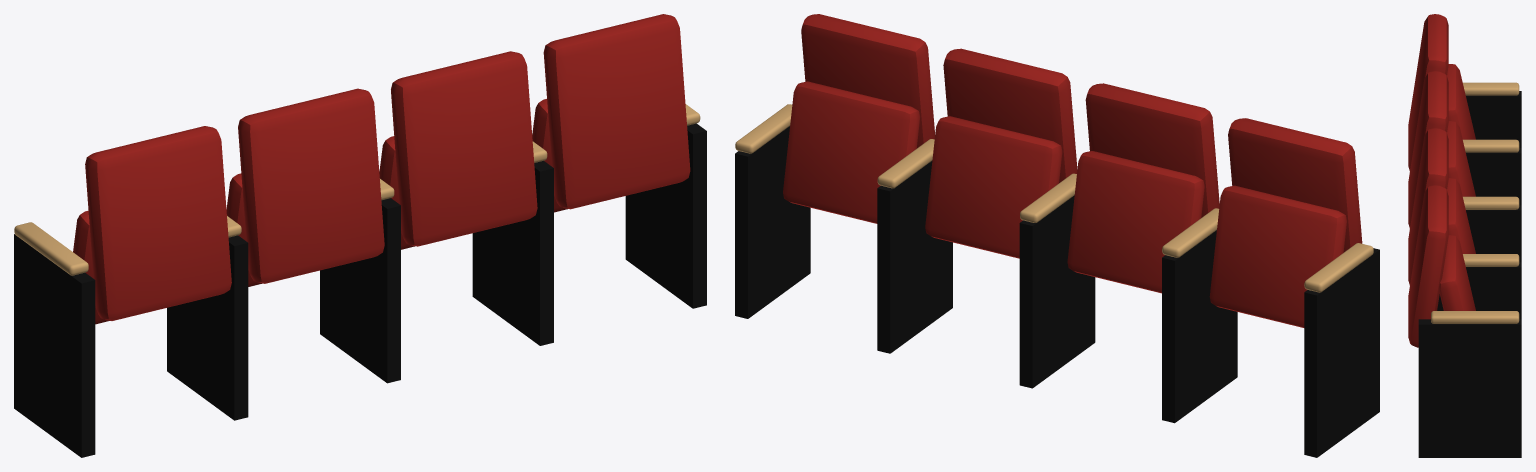
The model's file is venue.seat.row_4.glb.
The picture shows the model from 3 angles, left to right: view 1: azimuth 30°, elevation 25°; view 2: azimuth 150°, elevation 25°; view 3: azimuth 270°, elevation 25°; orthographic projection. The views are drawn at different scales.
Parts seen in each view (by area): view 1: main__fabric_red, main__plastic_black, main__glulam; view 2: main__fabric_red, main__plastic_black, main__glulam; view 3: main__plastic_black, main__fabric_red, main__glulam.
Boxes of the visible parts, x1,y1,x2,y2 form: main__fabric_red: [73, 14, 690, 324]; main__plastic_black: [14, 123, 706, 457]; main__glulam: [14, 104, 700, 275]; main__fabric_red: [783, 14, 1362, 327]; main__plastic_black: [735, 126, 1379, 457]; main__glulam: [735, 104, 1373, 292]; main__plastic_black: [1418, 91, 1521, 457]; main__fabric_red: [1408, 14, 1475, 347]; main__glulam: [1431, 82, 1519, 323].
Size of the model in its own units: 2.27 by 0.9937 by 0.4622.
